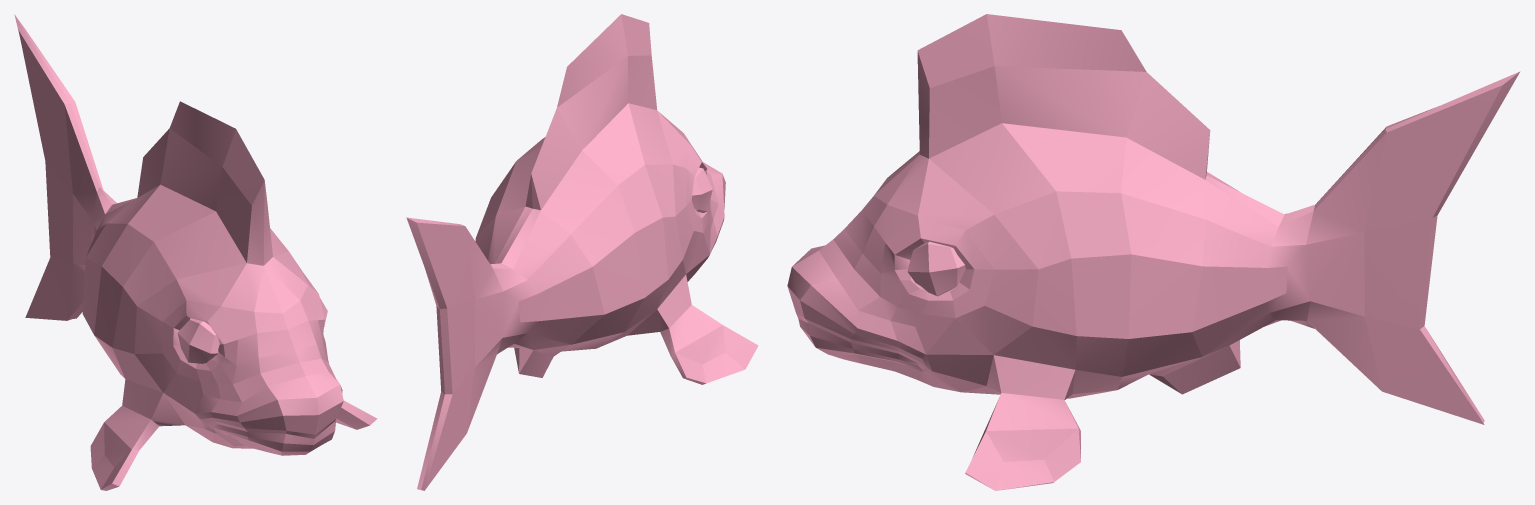
Rendered from realfish.fbx.
The picture shows the model from 3 angles, left to right: view 1: azimuth 30°, elevation 25°; view 2: azimuth 150°, elevation 25°; view 3: azimuth 270°, elevation 25°; orthographic projection. The views are drawn at different scales.
Parts seen in each view (by area): view 1: polySurface3; view 2: polySurface3; view 3: polySurface3.
Part boxes in pixels (x1,y1,x2,y2): polySurface3: (14,14,377,490); polySurface3: (406,14,758,490); polySurface3: (787,14,1520,490).
Size of the model in its own units: 1.57 by 1.92 by 3.12.
1 material, 1 textured.
